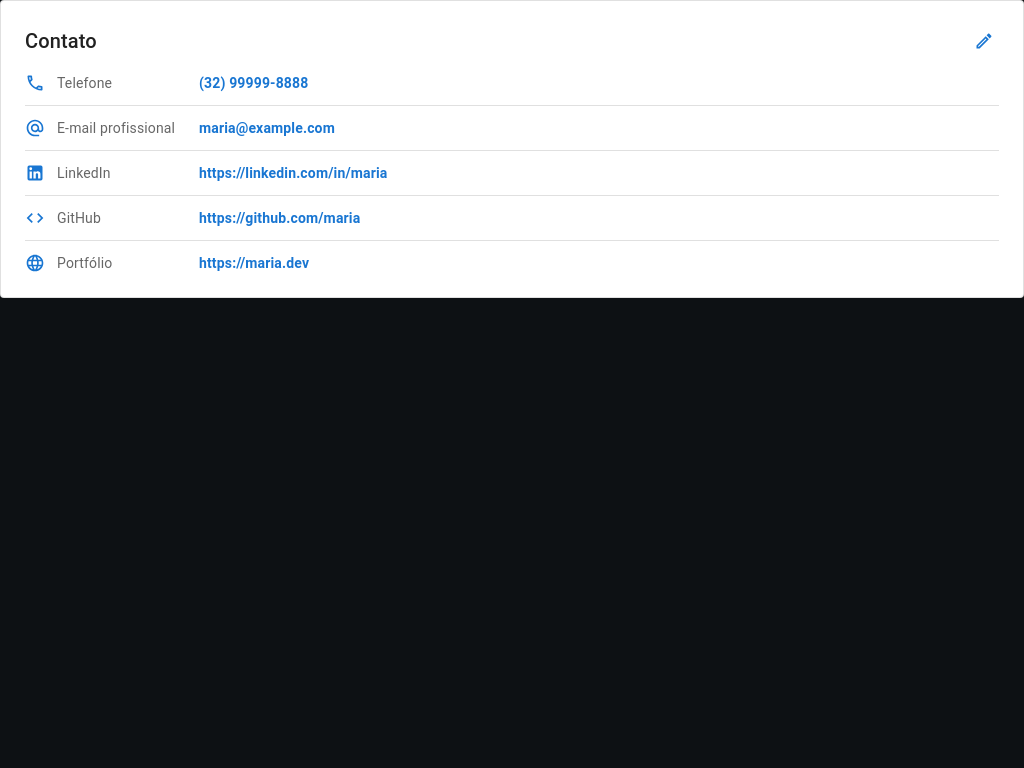
Test case: ContatoSection form › opens the dialog prefilled with the stored values and a formatted phone
Click the button named "Editar contato".
click(984, 41)  # box [969,26,999,56]
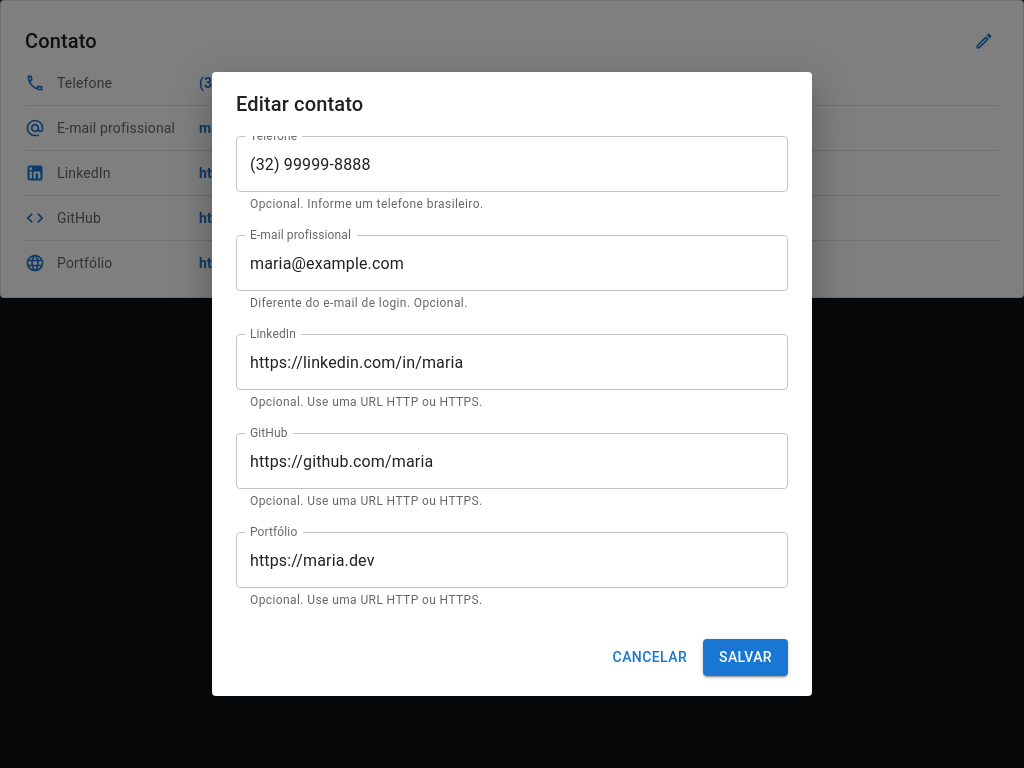
Result: the field labelled "Telefone" holds "(32) 99999-8888" at [236,136,788,192]
Result: the field labelled "E-mail profissional" holds "maria@example.com" at [236,235,788,291]
Result: the field labelled "LinkedIn" holds "https://linkedin.com/in/maria" at [236,334,788,390]
